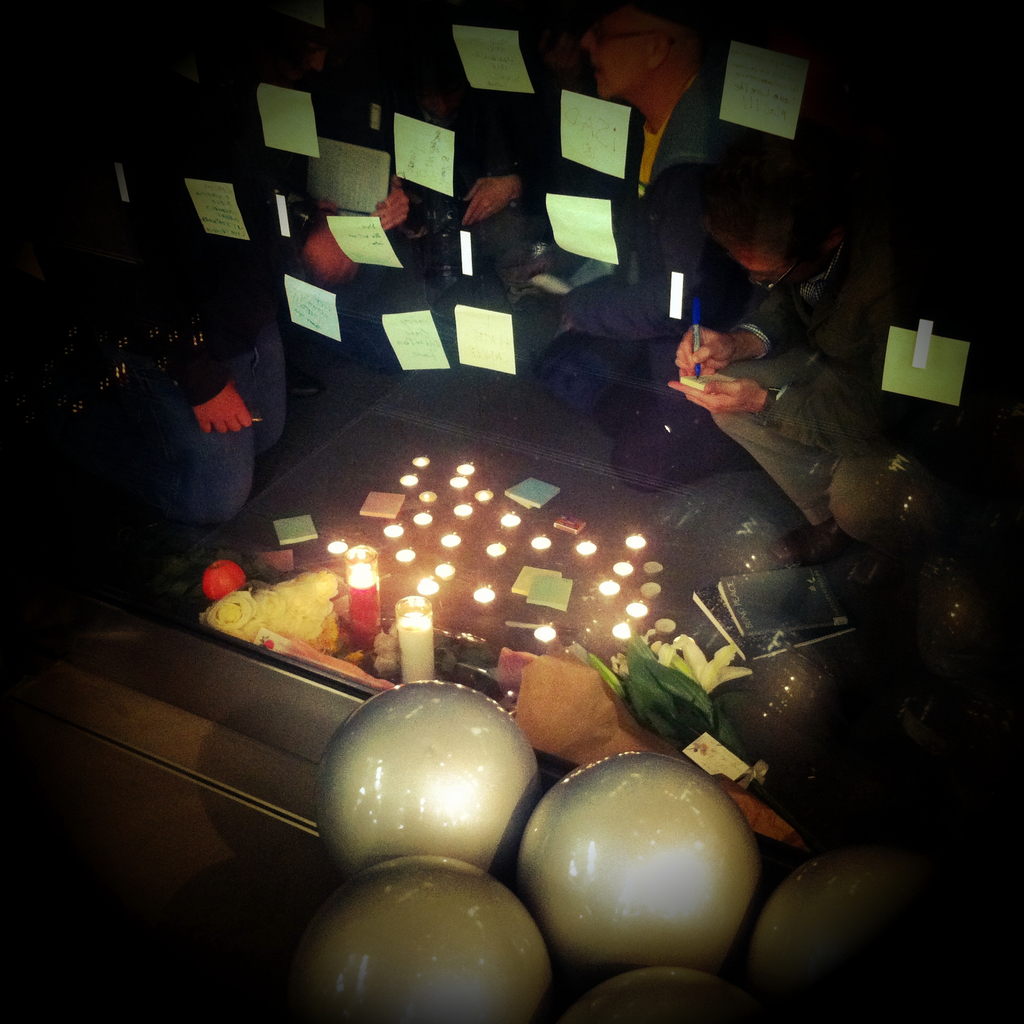Ball: (519, 757, 762, 965), (318, 682, 540, 881), (753, 862, 1011, 1023), (307, 860, 552, 1023), (550, 970, 776, 1023)
